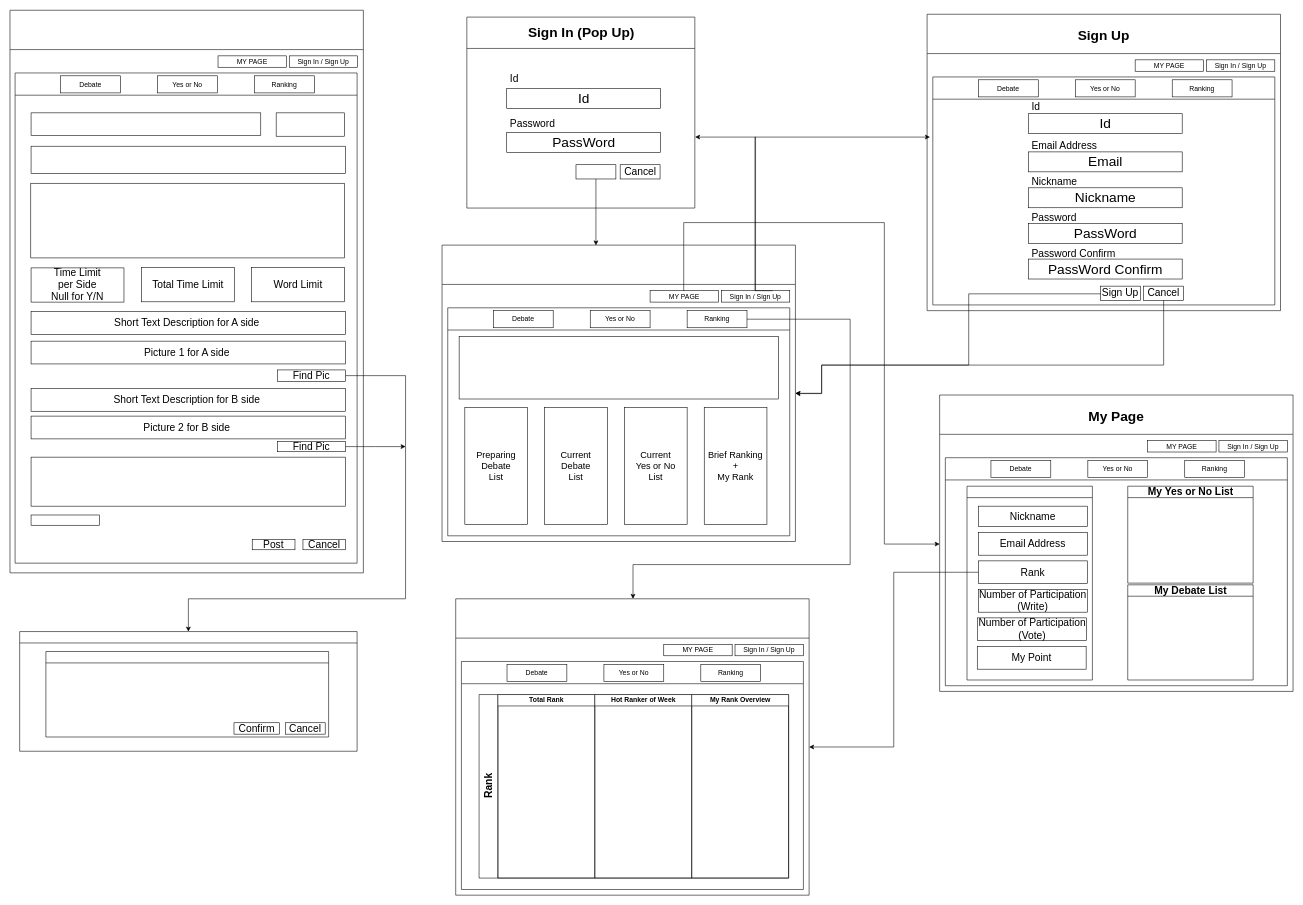
The diagram is 1303 pixels wide and 905 high, and some of its shapes have lost their labels. Here are the shapes that lost their labels. From the top down, the box of each, then its label:
(30, 112, 261, 136): Title
(276, 112, 345, 136): Category Selection
(30, 146, 346, 174): Main Topic
(575, 164, 616, 179): Login
(30, 183, 344, 258): Brief Summary Main Text in Description Page
(9, 10, 363, 573): Yes or No / Debate Write Page
(459, 336, 778, 399): Notice / Topic of Week
(441, 245, 795, 542): Main Page
(30, 457, 346, 506): I agree too.....
(30, 514, 99, 525): Yes I agree
(966, 486, 1092, 680): Profile
(45, 651, 329, 737): Directory
(19, 631, 357, 751): Find Pic (Pop Up)
(455, 598, 809, 895): Rank Page
